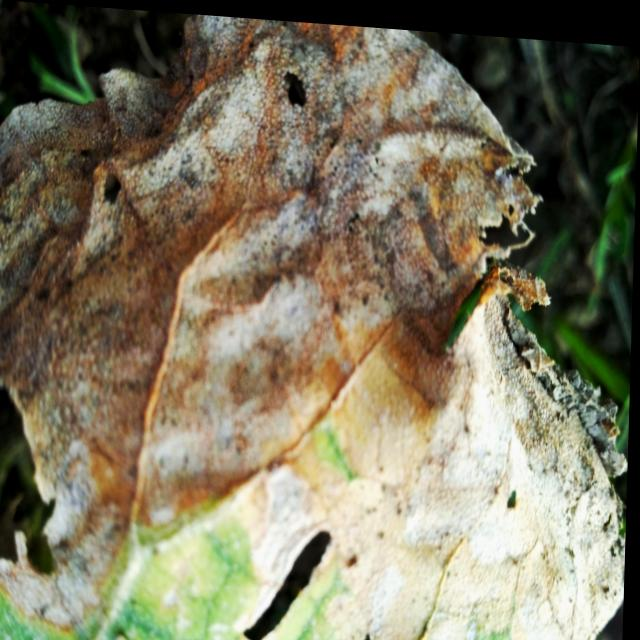Anthracnose: (238, 515, 336, 640), (274, 63, 313, 118), (95, 164, 128, 223), (349, 627, 380, 640)
